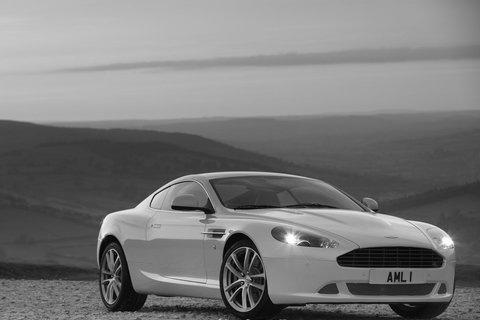car: (80, 155, 471, 320)
